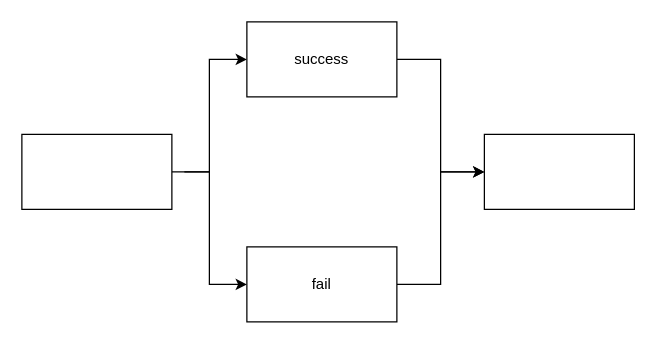
Some shapes in this 656 by 344 pixel diagram are drawn without their labels. Each missing label, with the centre of its shape:
"complete" goes at (x=558, y=171).
"pre" goes at (x=96, y=171).
